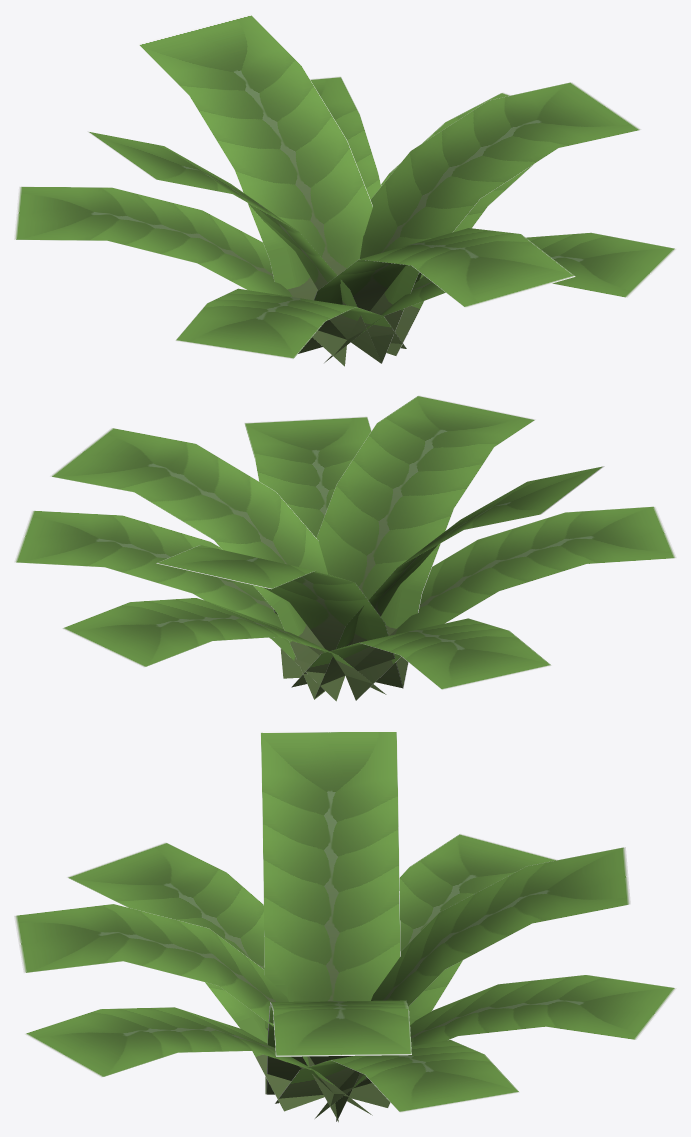
The model's file is Plant_08.glb.
The picture shows the model from 3 angles, top to bottom: view 1: azimuth 30°, elevation 25°; view 2: azimuth 150°, elevation 25°; view 3: azimuth 270°, elevation 25°; orthographic projection. The views are drawn at different scales.
Parts seen in each view (by area): view 1: Plant_08_LOD0; view 2: Plant_08_LOD0; view 3: Plant_08_LOD0.
Boxes of the visible parts, x1,y1,x2,y2 form: Plant_08_LOD0: (14, 14, 676, 366); Plant_08_LOD0: (14, 395, 676, 701); Plant_08_LOD0: (14, 730, 676, 1122).
Size of what is drawn, in the model's own units: 0.5982 by 0.2482 by 0.6.
1 material, 1 textured.
